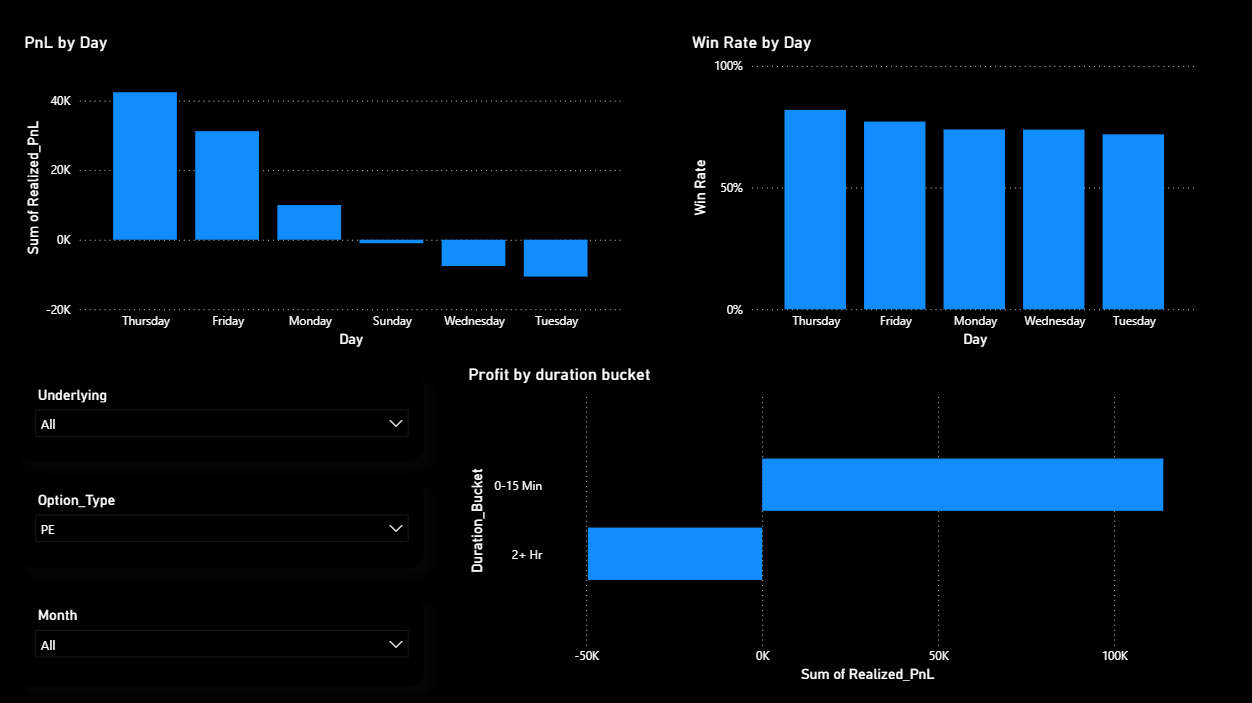

Layout of this report page (visuals, bound fields, positions):
{"tool":"powerbi","page":{"name":"Page 2","canvas":[1280,720],"ordinal":1},"visuals":[{"type":"clusteredColumnChart","title":"PnL by Day","fields":{"Category":["Trading_Analytics_Final.Day"],"Y":["Sum(Trading_Analytics_Final.Realized_PnL)"]},"box":[26,37.4,613.2,322.1],"z":0},{"type":"columnChart","fields":{"Category":["Trading_Analytics_Final.Day"],"Y":["Trading_Analytics_Final.Win Rate"]},"box":[699.4,37.4,520.5,322.1],"z":1},{"type":"clusteredBarChart","title":"Profit by duration bucket","fields":{"Category":["Trading_Analytics_Final.Duration_Bucket"],"Y":["Sum(Trading_Analytics_Final.Realized_PnL)"]},"box":[473.3,372.5,746.6,325.3],"z":2},{"type":"slicer","fields":{"Values":["Trading_Analytics_Final.Underlying"]},"box":[26,383.9,408.3,86.2],"z":3},{"type":"slicer","fields":{"Values":["Trading_Analytics_Final.Option_Type"]},"box":[26,491.2,408.3,87.8],"z":4},{"type":"slicer","fields":{"Values":["Trading_Analytics_Final.Month"]},"box":[26,606.7,408.3,91.1],"z":5}]}

Visuals, with their boxes in screenshot pixels (x1, y1, x2, y2), scaled from the page's 1280x720 canvas onto the 1252x703 screenshot:
"PnL by Day" clusteredColumnChart: rect(25, 37, 625, 351)
columnChart - Trading_Analytics_Final.Day x Trading_Analytics_Final.Win Rate: rect(684, 37, 1193, 351)
"Profit by duration bucket" clusteredBarChart: rect(463, 364, 1193, 681)
slicer - Trading_Analytics_Final.Underlying: rect(25, 375, 425, 459)
slicer - Trading_Analytics_Final.Option_Type: rect(25, 480, 425, 565)
slicer - Trading_Analytics_Final.Month: rect(25, 592, 425, 681)
